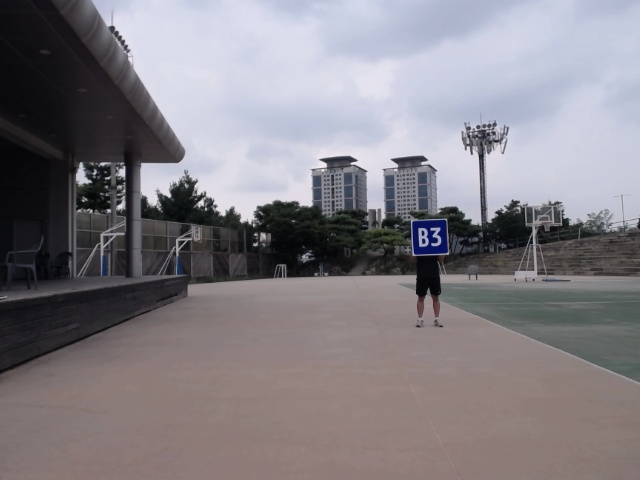delivery_b3: (410, 219, 451, 256)
